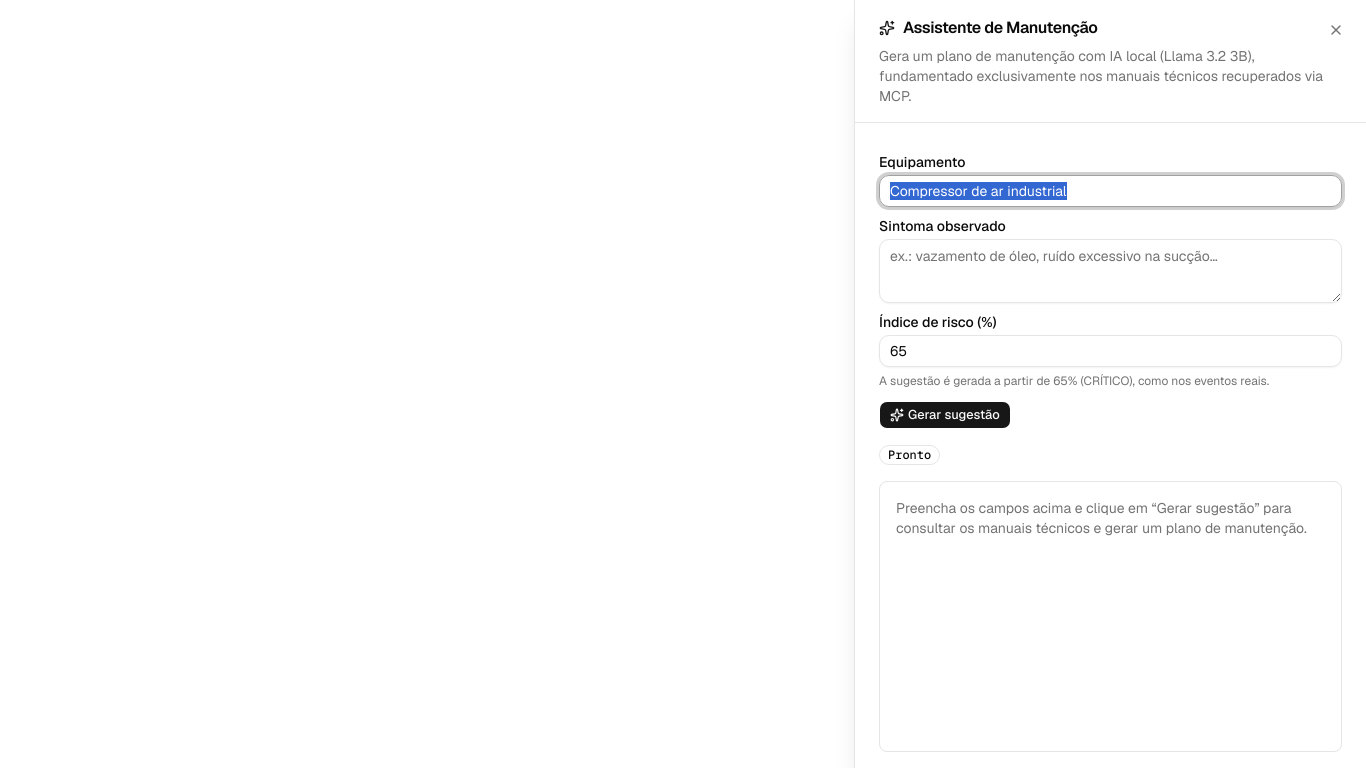
Test: MaintenanceAssistant › A) renderiza heading, parágrafo, negrito e lista a partir do Markdown
This screenshot has width=1366, height=768.
Click the button "Gerar sugestão" at point(945, 415), box [879, 401, 1011, 429]
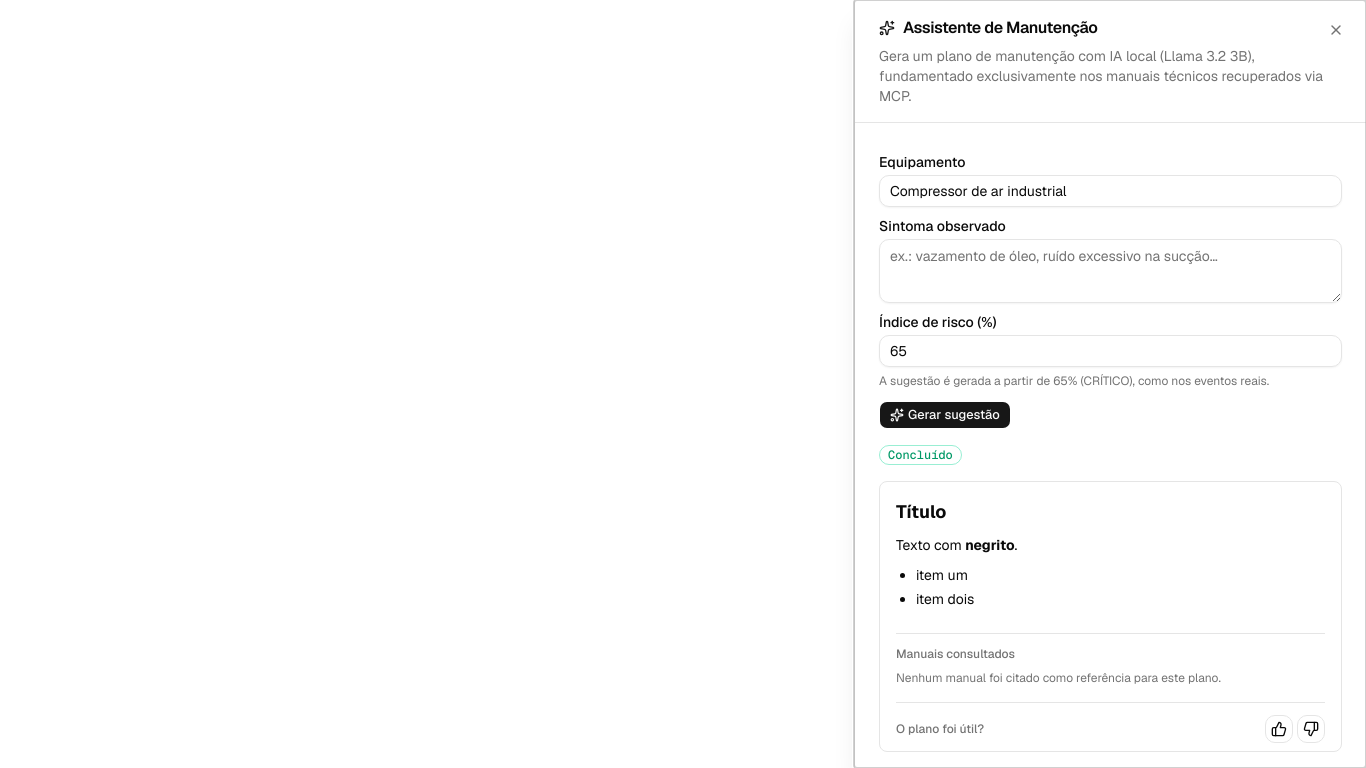
Check: the heading "Título" is shown, box [896, 500, 946, 523]
Check: the text "negrito" reads "Texto com negrito.", box [896, 536, 1017, 554]
Check: the number of list items is 2, box [916, 566, 968, 584]; [916, 590, 974, 608]
